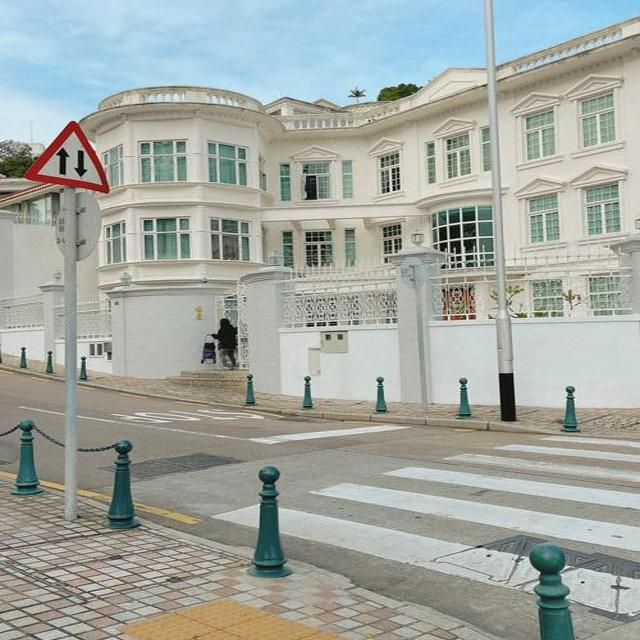curb: (81, 381, 557, 436), (293, 562, 500, 639), (146, 520, 251, 559), (2, 366, 63, 381)
